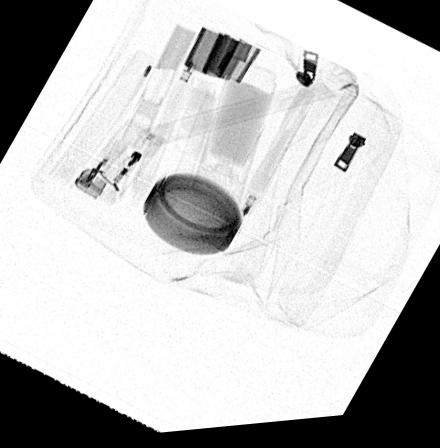Lighter: (72, 121, 165, 210)
